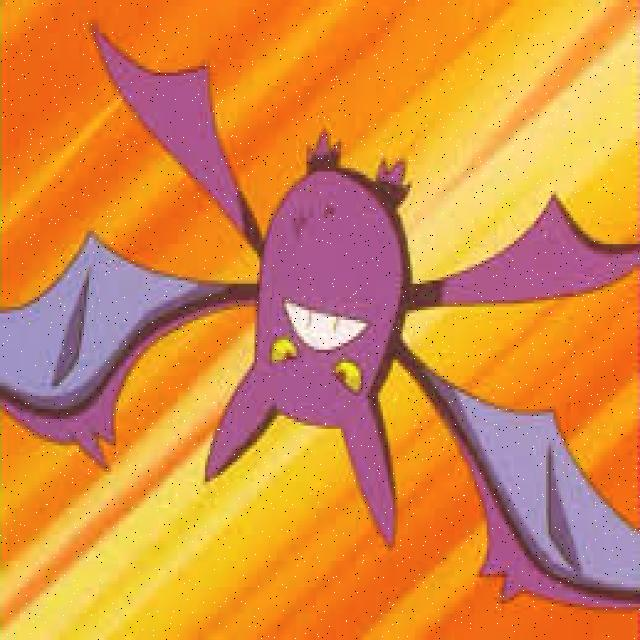crobat: (2, 16, 640, 609)
